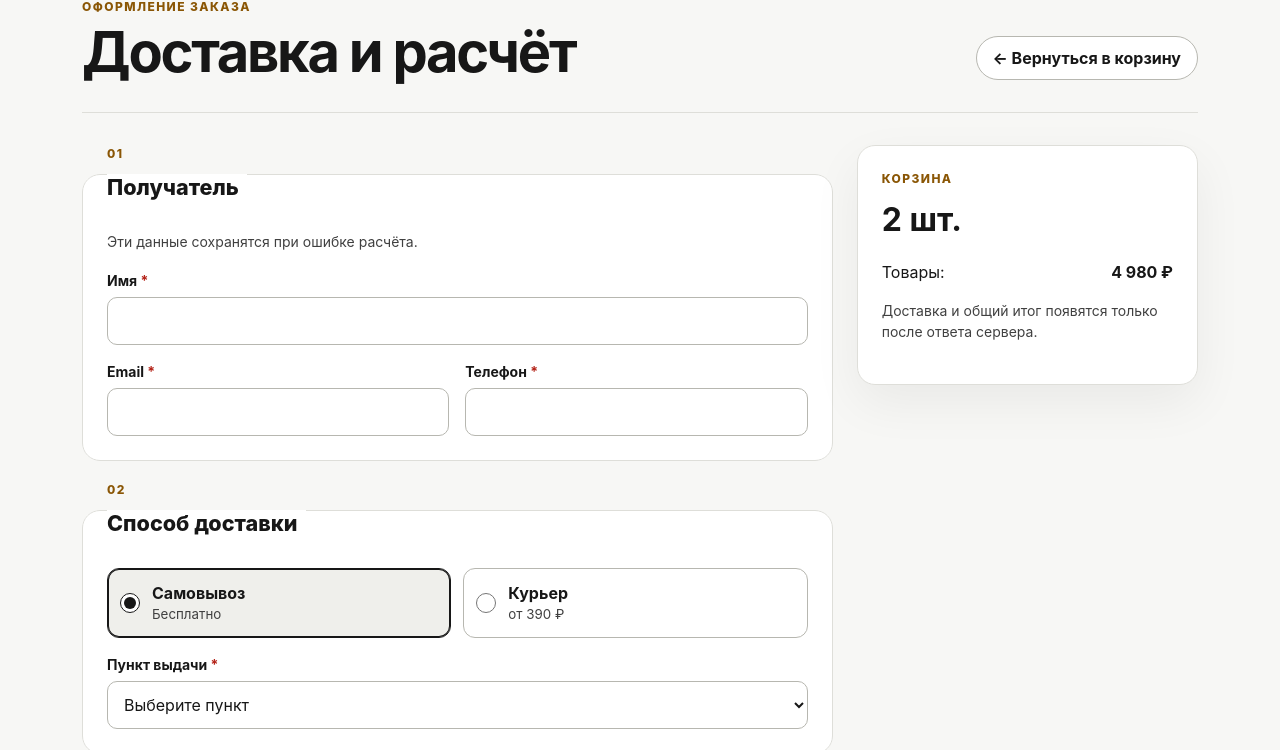
Test case: Checkout Page › preserves the key and consults server orders on idempotency conflict without guessing an Order
In the field labelled "Имя *": (457, 321) [107,297,808,345], type "Тестовый Покупатель"
In the field labelled "Email *": (278, 412) [107,388,449,436], type "buyer@example.test"
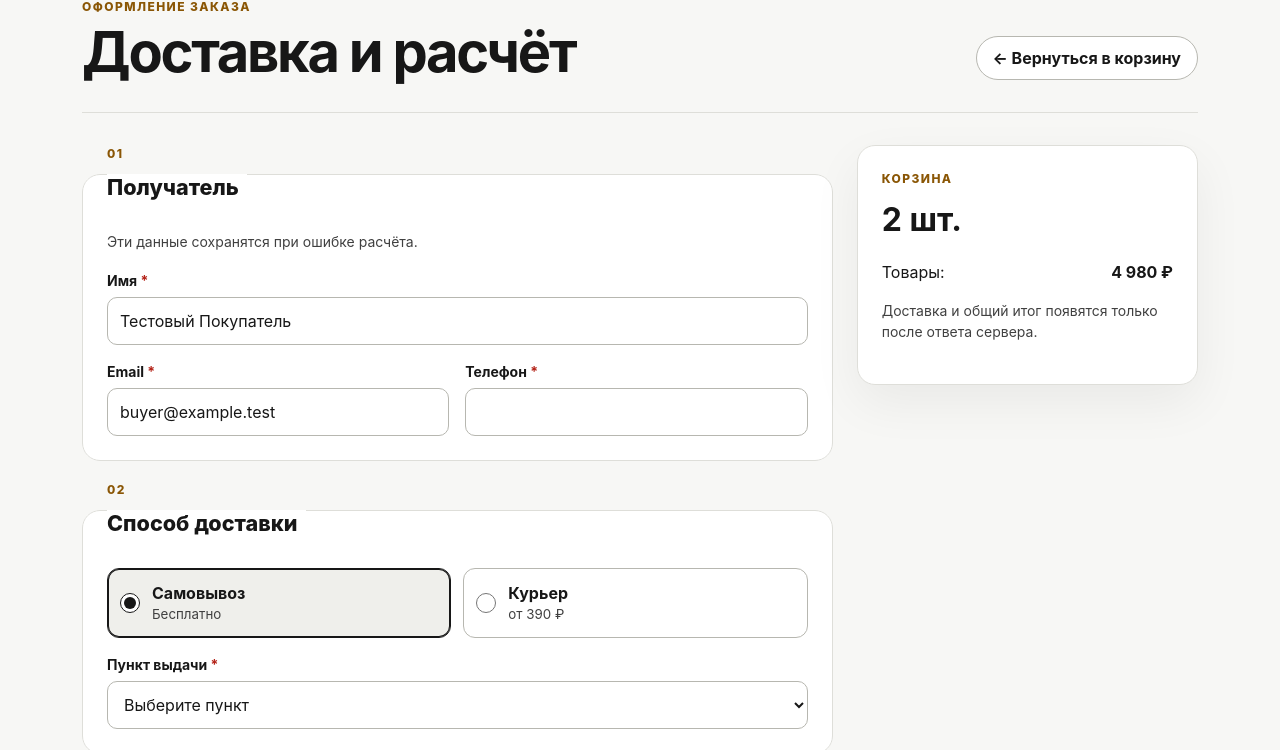
In the field labelled "Телефон *": (637, 412) [465,388,808,436], type "+79990000000"
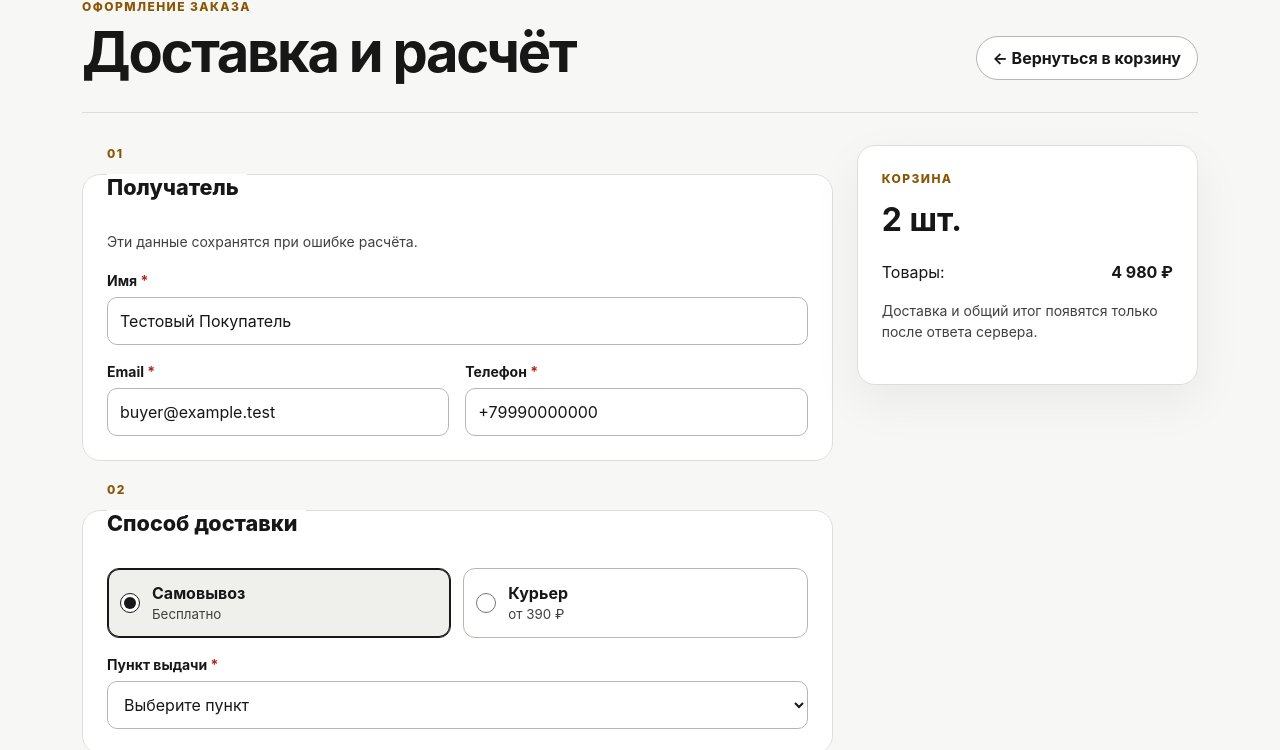
Select "Центр — Учебная, 1" in the dropdown labelled "Пункт выдачи *": (457, 705) [107,681,808,729]
(page scrolled)
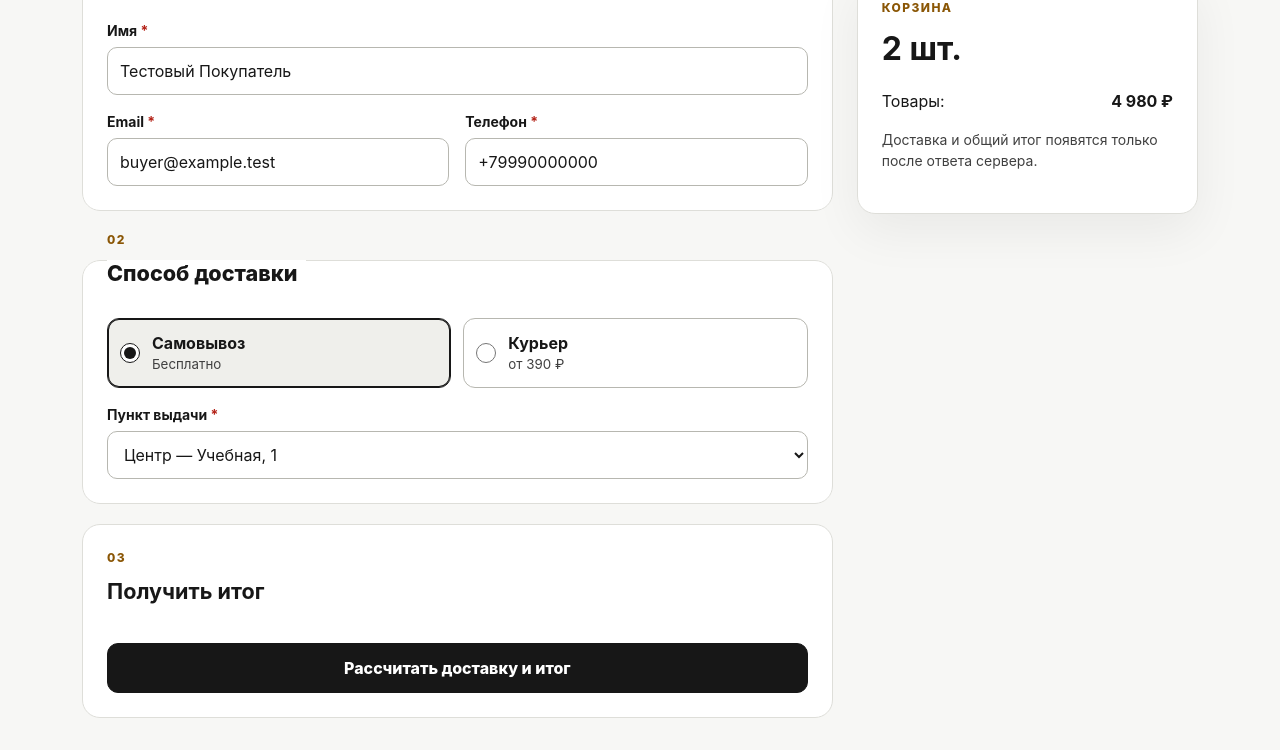
Click the button "Рассчитать доставку и итог": (457, 668) [107,643,808,693]
(page scrolled)
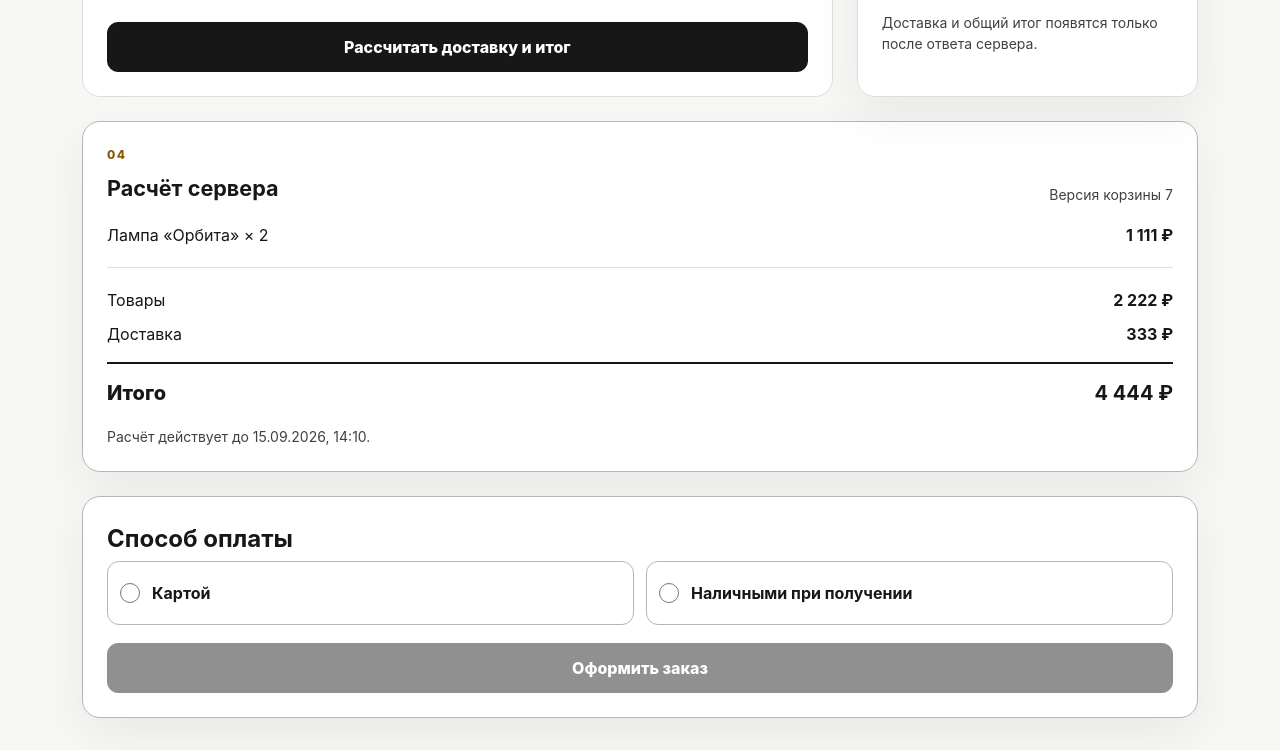
Check: the heading "Способ оплаты" is shown, box [107,524,293,552]
Click the radio button labelled "Наличными при получении": (669, 592) [659,582,679,602]
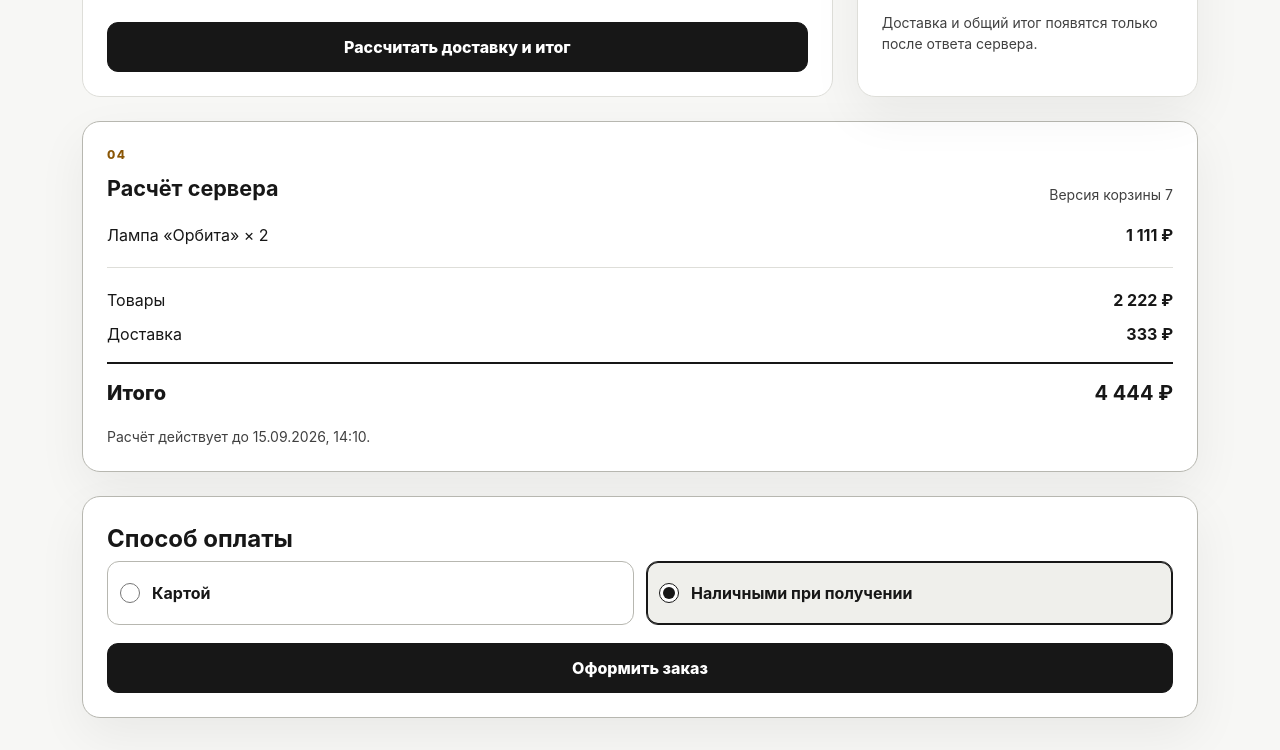
Click the button "Оформить заказ": (640, 668) [107,642,1173,692]
(page scrolled)
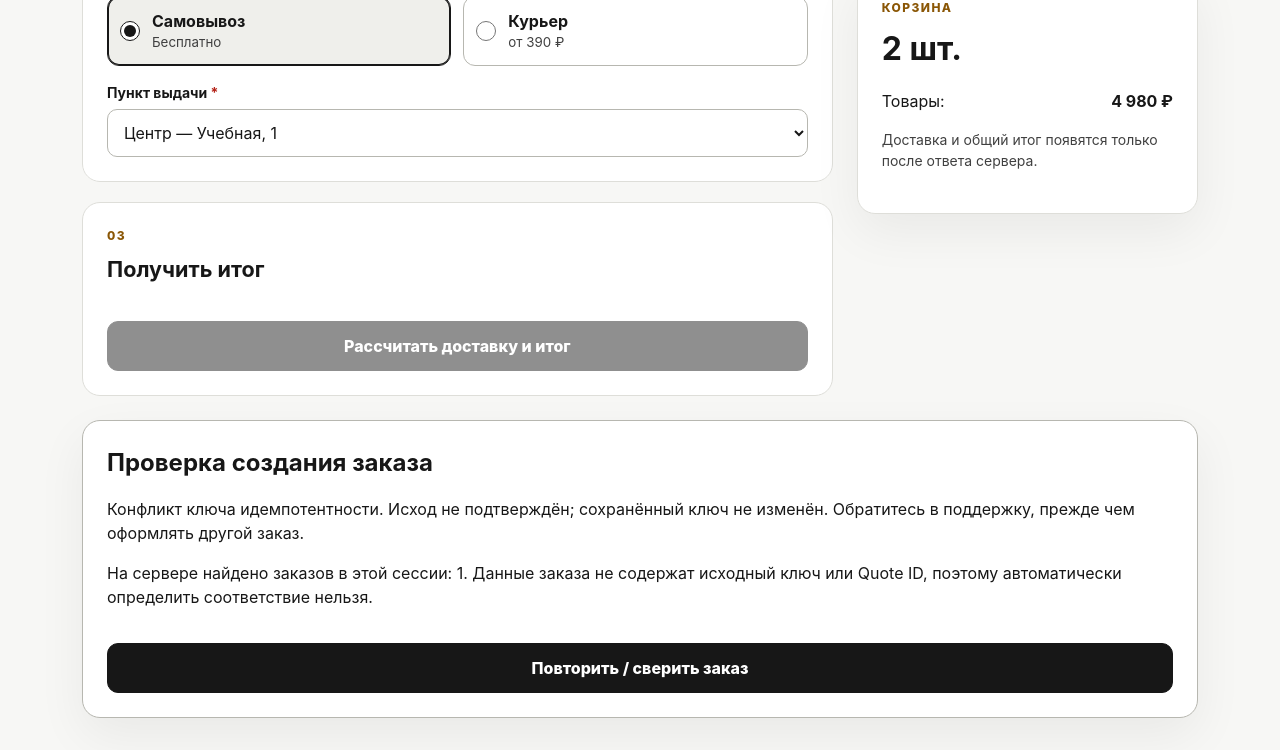
Check: the text "На сервере найдено заказов в этой сессии: 1" is shown, box [107,561,1173,609]
